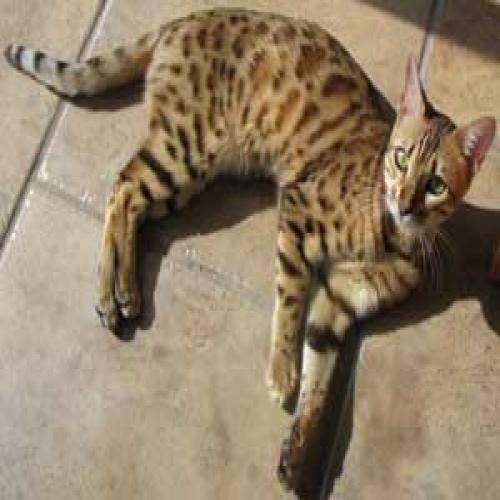bengal: (365, 46, 500, 273)
